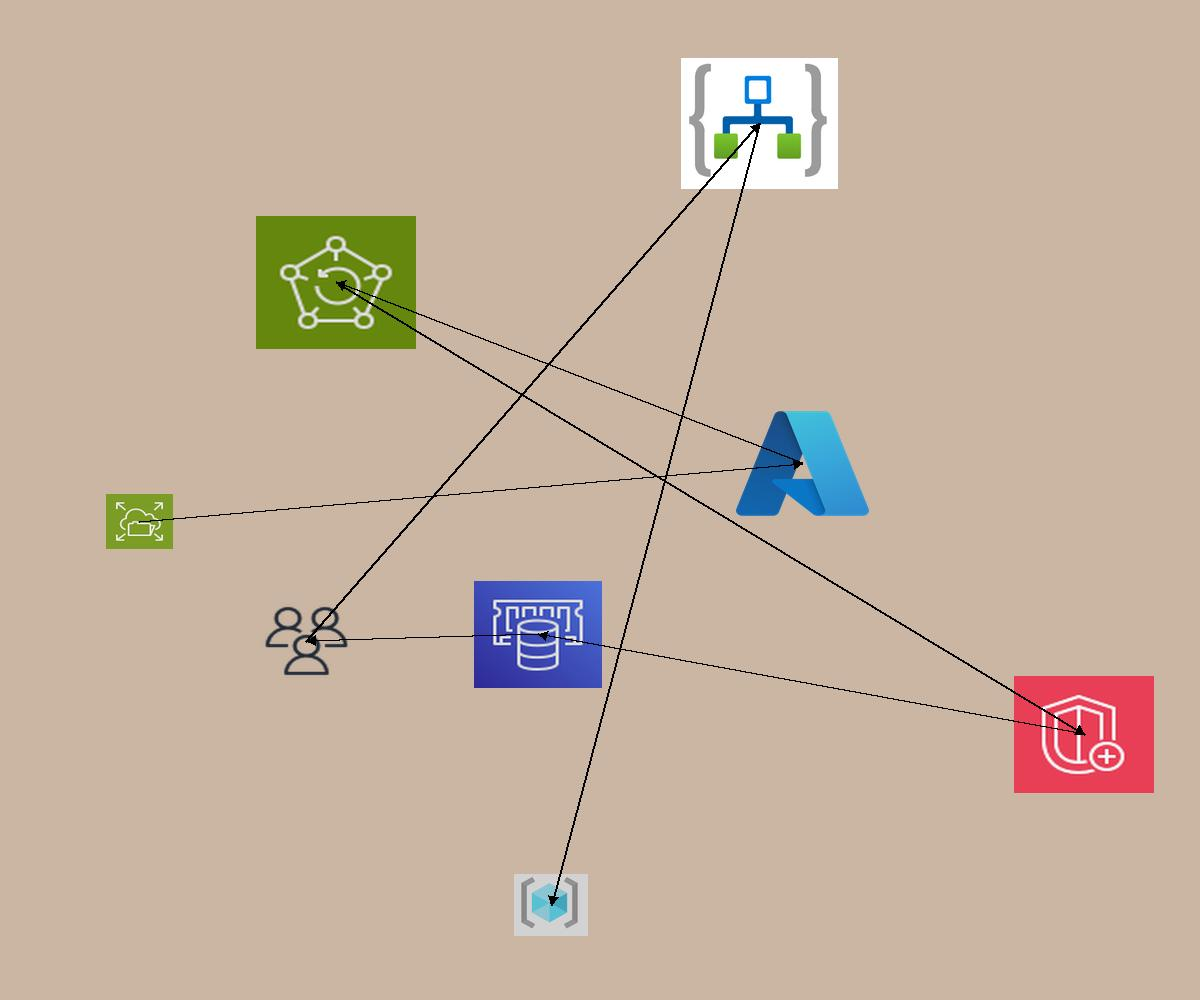AWS-Backup: (256, 216, 416, 349)
AWS-EFS: (106, 494, 173, 549)
AWS-ElastiCache: (474, 581, 602, 688)
AWS-Res_Users: (262, 604, 351, 678)
AWS-Shield: (1014, 676, 1154, 793)
Azure_integration-204-Logic-Apps: (681, 58, 838, 189)
Azure_resource_group: (514, 874, 588, 936)
Azure_services: (730, 403, 875, 524)
